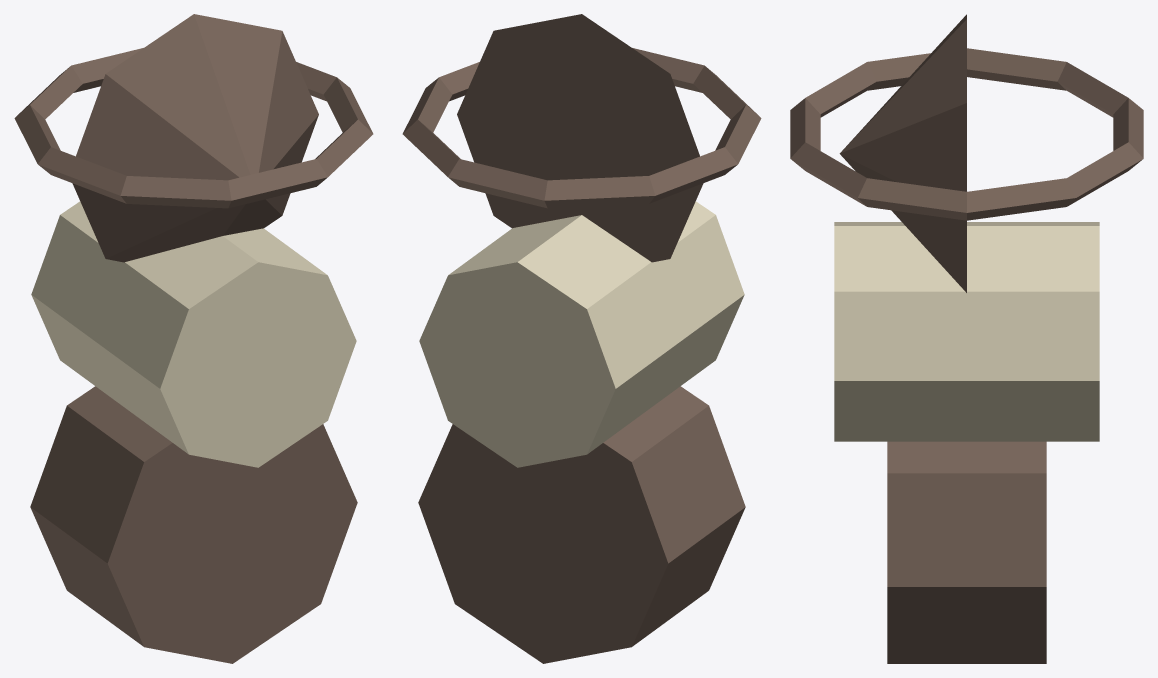
Rendered from lantern.glb.
3 views of the same model, side by side, from view 1: azimuth 30°, elevation 25°; view 2: azimuth 150°, elevation 25°; view 3: azimuth 270°, elevation 25° (orthographic). The views are drawn at different scales.
Parts seen in each view (by area): view 1: geometry_0; view 2: geometry_0; view 3: geometry_0.
Part boxes in pixels (box(x1,y1,x2,y2)): geometry_0: box(14, 14, 373, 663); geometry_0: box(402, 14, 761, 663); geometry_0: box(790, 14, 1143, 663).
Size of the model in its own units: 0.35 by 0.665 by 0.3329.
